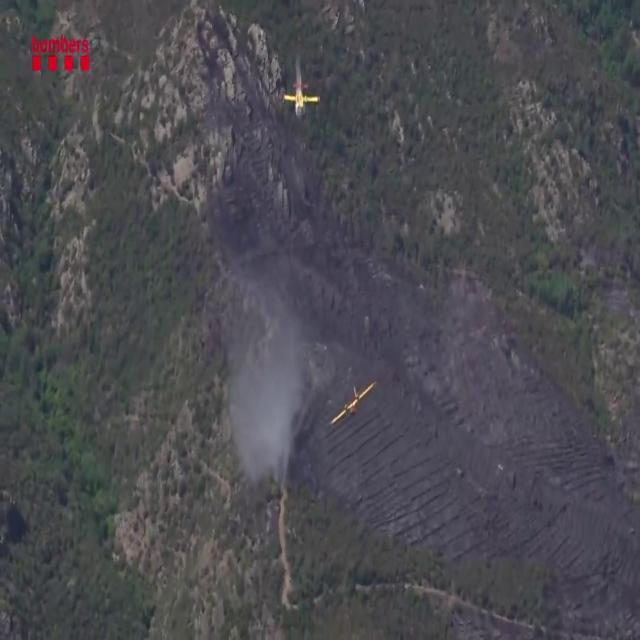Smoke: (219, 239, 310, 498)
